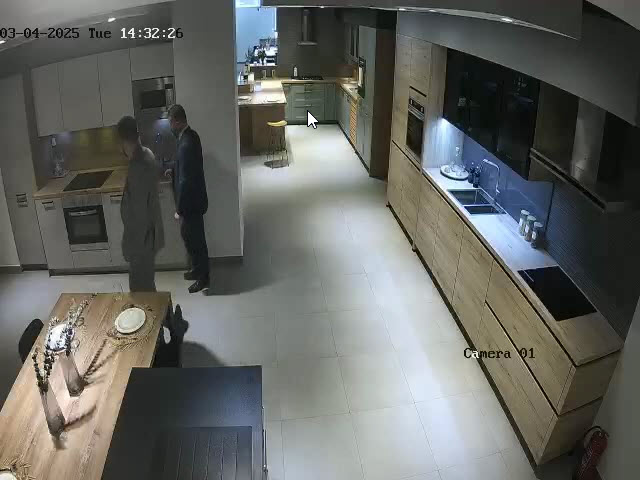employee: (166, 103, 210, 295)
male: (114, 116, 166, 291)
